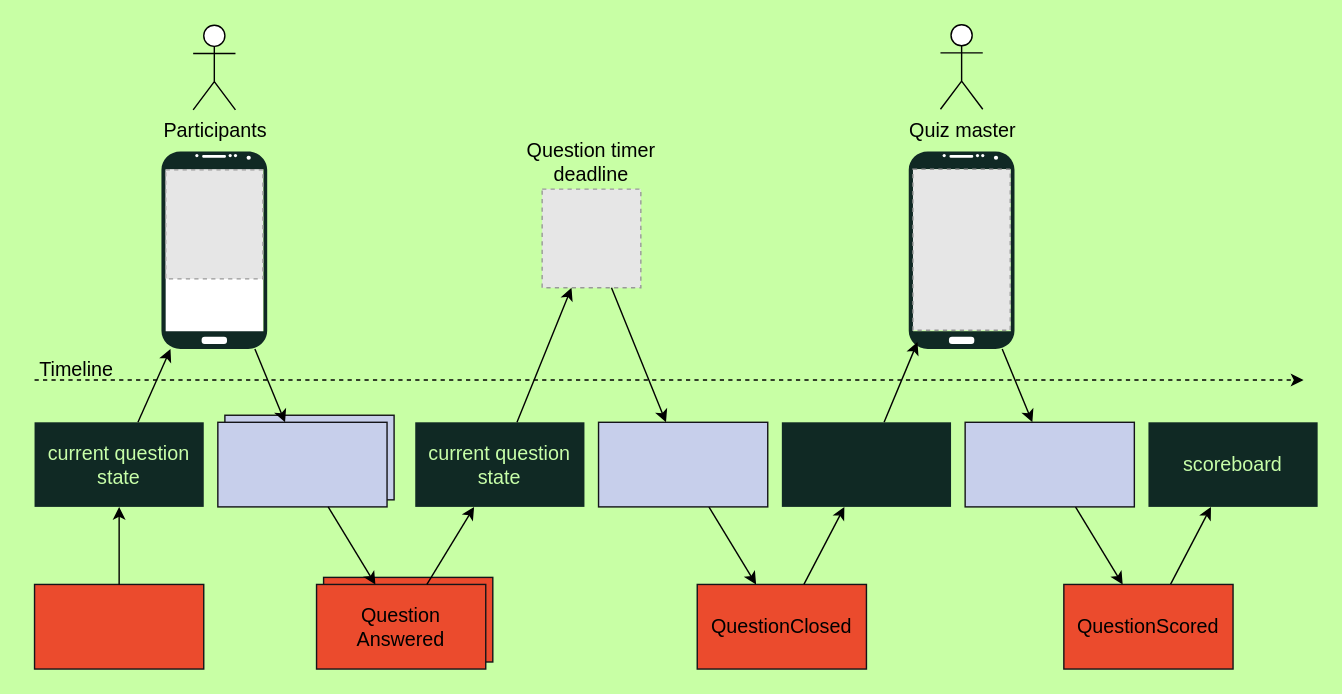
Some shapes in this 1342 by 694 pixel diagram are drawn without their labels. Grey dashed boxes stand in for pictures. Here are the shapes that lost their labels. From the top down, the centre of each, then its label:
At pixel 301 464: "AnswerQuestion".
At pixel 682 464: "CloseQuestion".
At pixel 865 464: "revealed answers".
At pixel 1049 464: "ScoreQuestion".
At pixel 118 626: "Question Asked".
